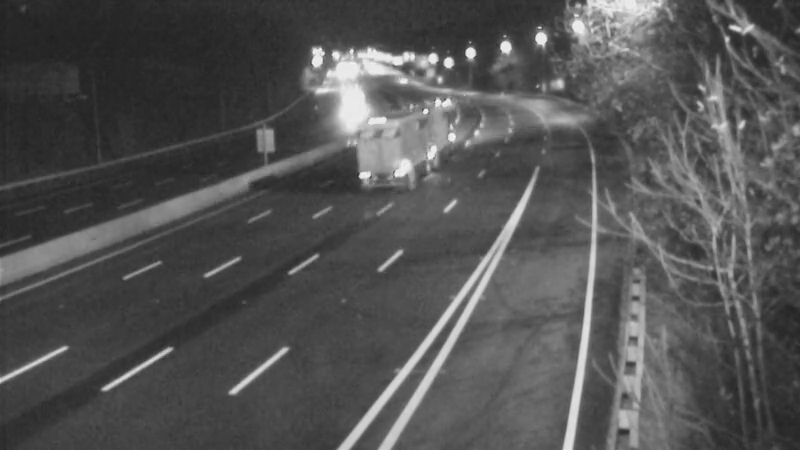vehicle: (376, 56, 426, 106), (423, 72, 473, 122), (385, 86, 435, 136), (390, 114, 440, 164), (327, 75, 377, 125)
